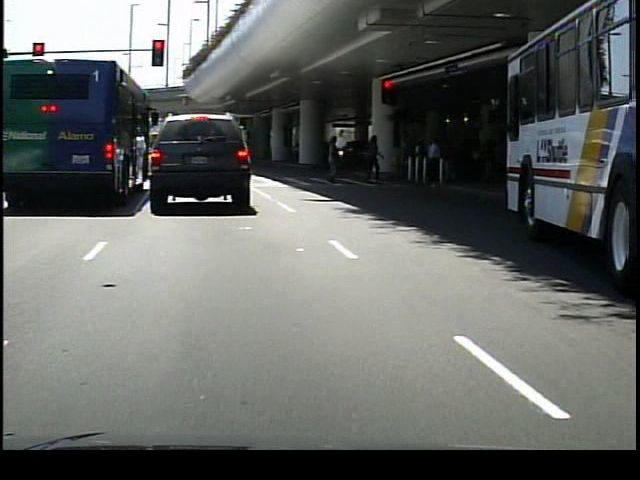person: (361, 131, 388, 186), (321, 132, 347, 186), (421, 135, 445, 191)
